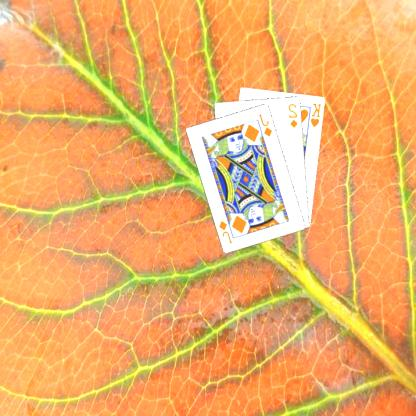2D: (288, 101, 300, 129)
JD: (258, 111, 275, 138), (218, 218, 235, 244)
KH: (310, 101, 324, 128)
